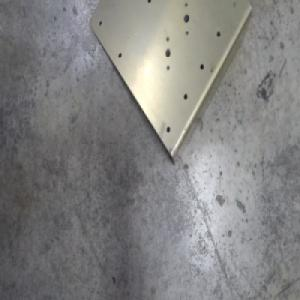MetalSheet: (89, 0, 253, 168)
